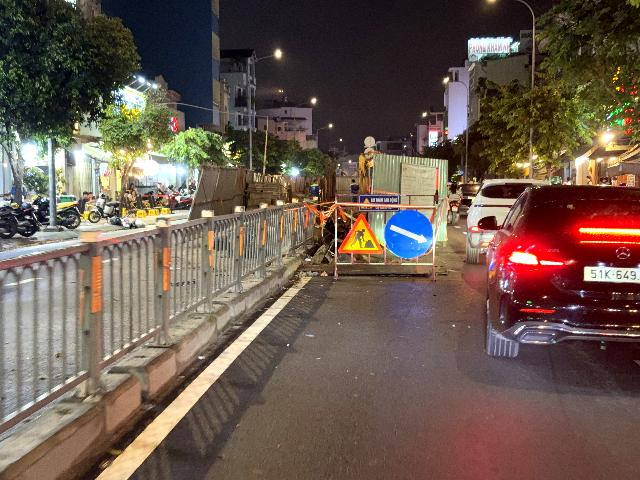cong-truong-dang-thi-cong: (338, 213, 384, 254)
huong-phai-di-vong-chuong-ngai-vat: (385, 210, 433, 257)
